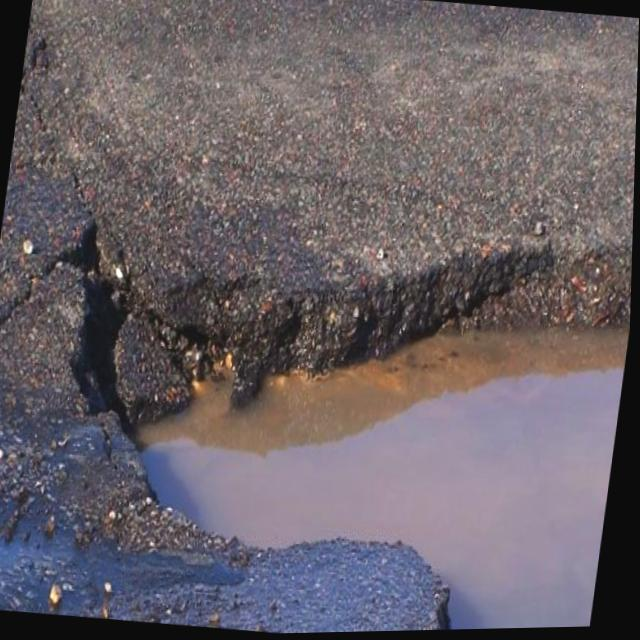Pothole: (51, 206, 636, 629)
